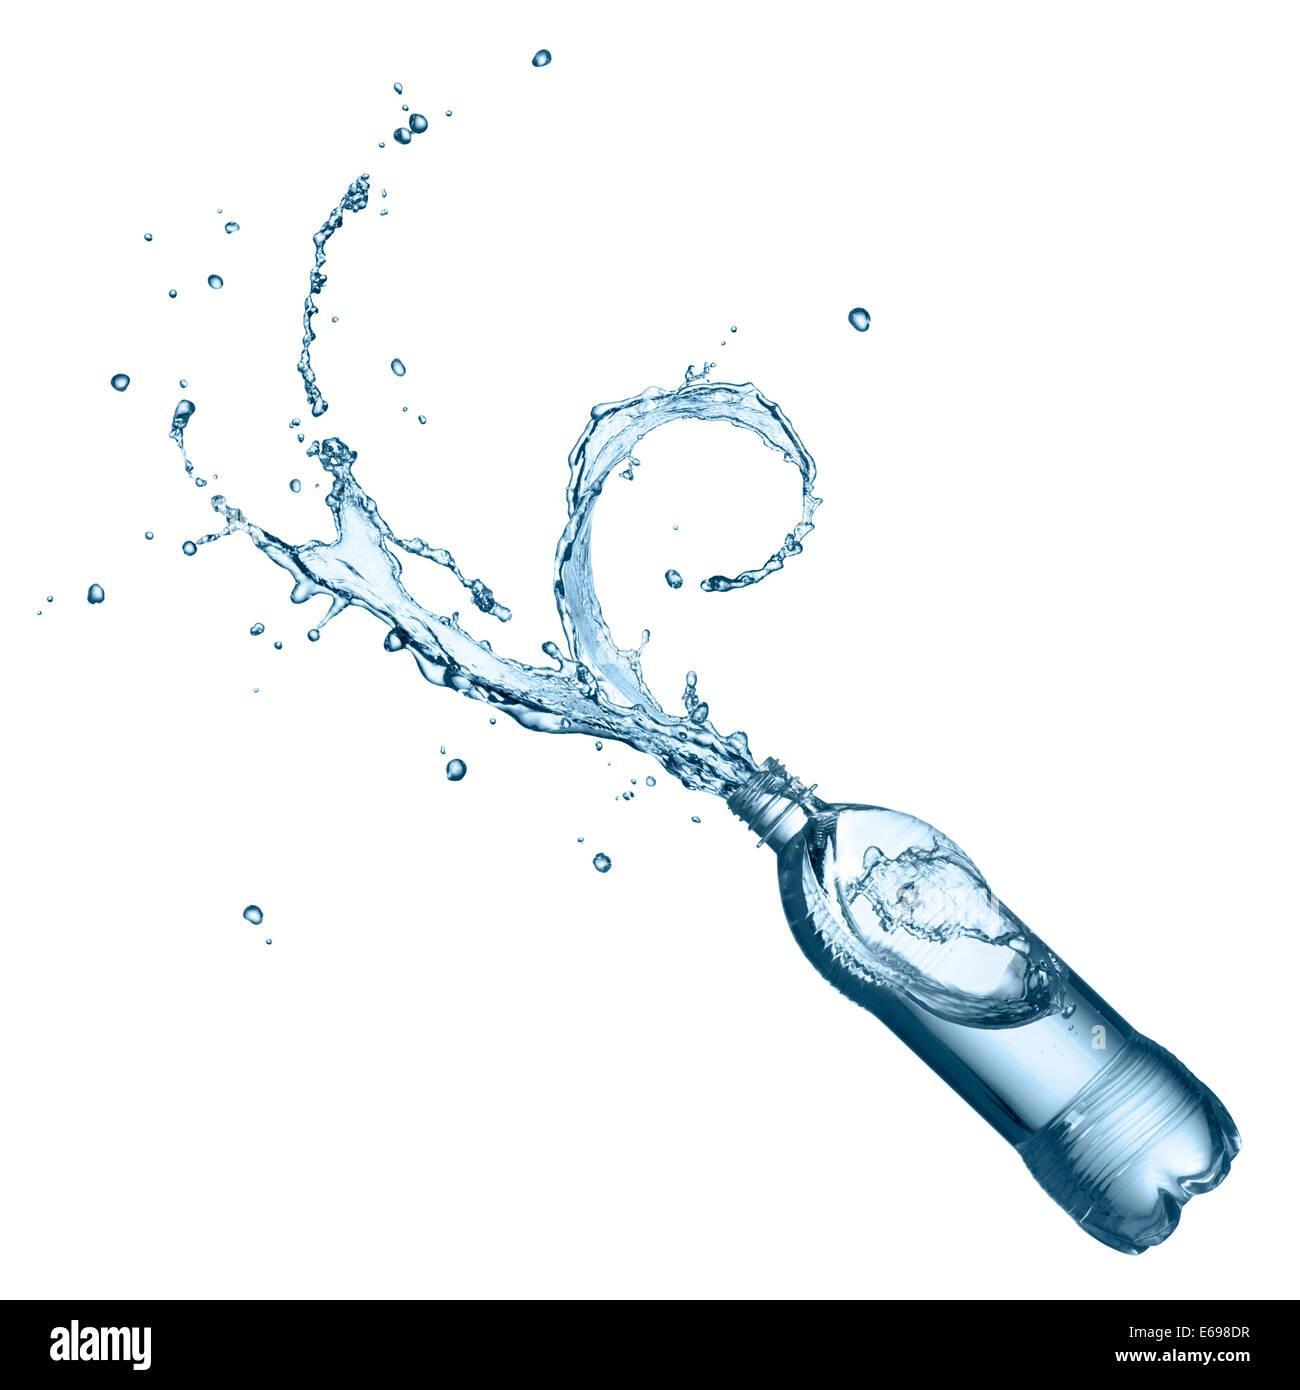bottle: (706, 743, 1245, 1268)
